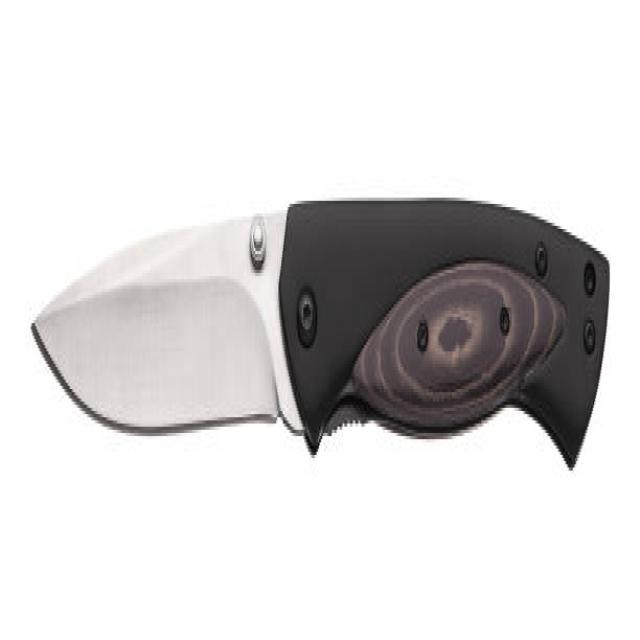knife: (29, 168, 613, 511)
